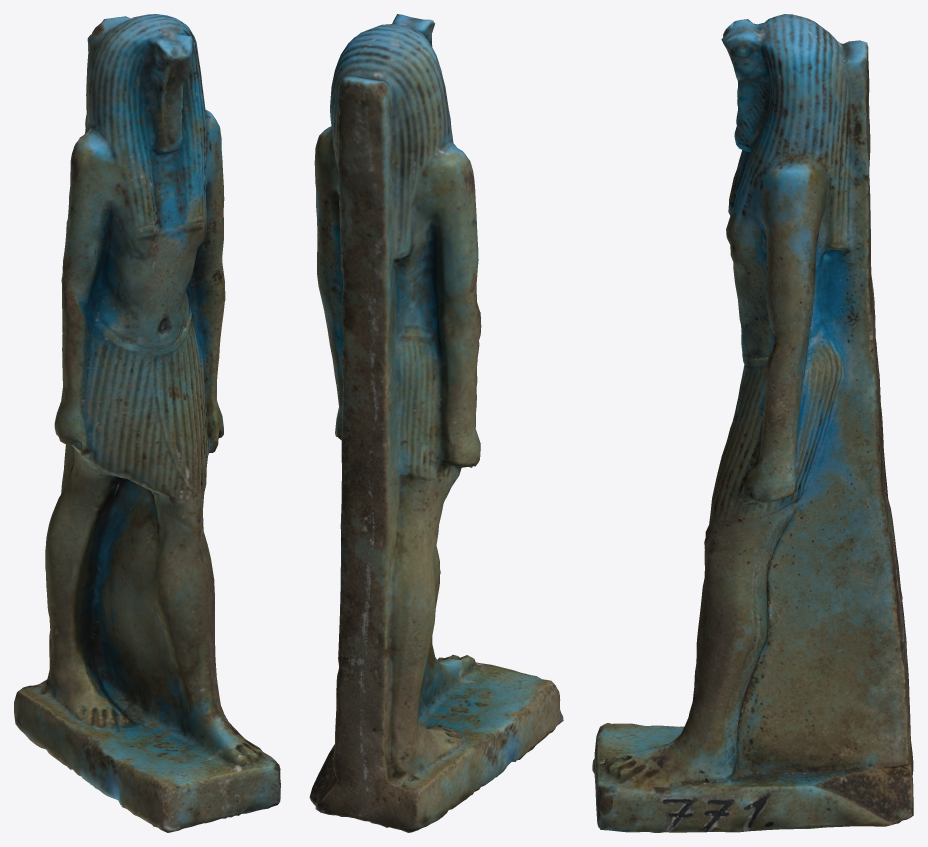
3 views of the same model, side by side, from view 1: azimuth 30°, elevation 25°; view 2: azimuth 150°, elevation 25°; view 3: azimuth 270°, elevation 25° (orthographic). The views are drawn at different scales.
Parts seen in each view (by area): view 1: Thot_771_clean_2; view 2: Thot_771_clean_2; view 3: Thot_771_clean_2.
Boxes of the visible parts, x1,y1,x2,y2 form: Thot_771_clean_2: (14, 14, 280, 832); Thot_771_clean_2: (309, 14, 563, 832); Thot_771_clean_2: (592, 14, 913, 832).
Bounding box in the file's own units: 0.0279 × 0.1234 × 0.0455.
1 material, 1 textured.
